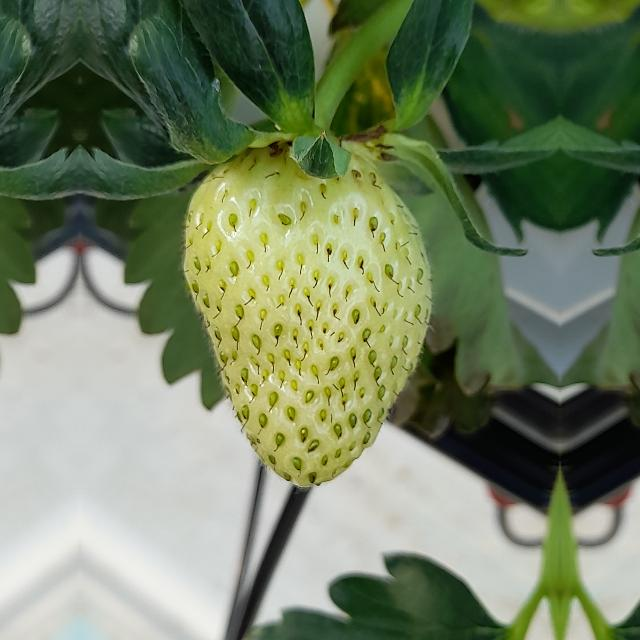Health_25: (177, 144, 433, 488)
